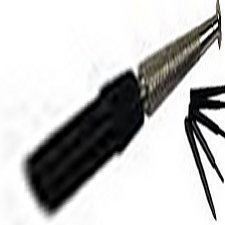Screwdriver: (6, 5, 225, 199), (181, 76, 225, 213)
